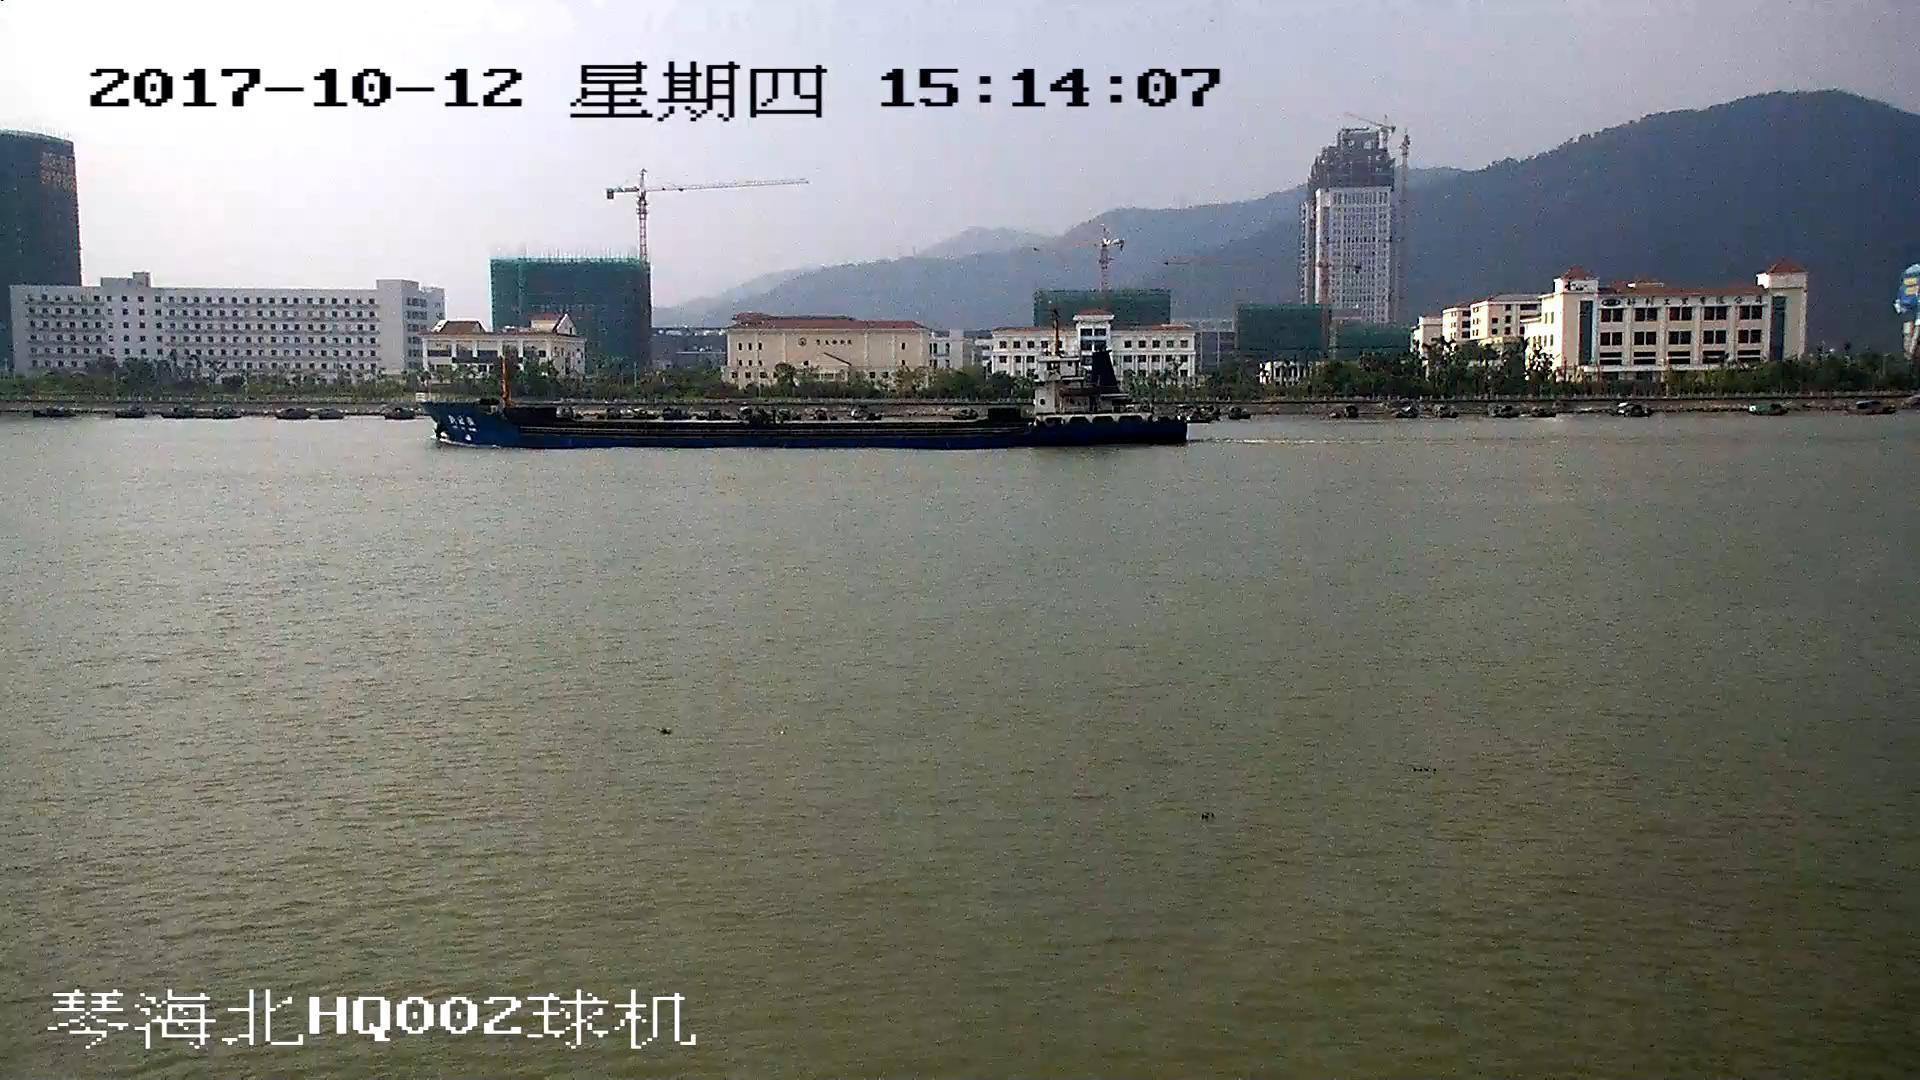Ship: (419, 319, 1185, 450)
